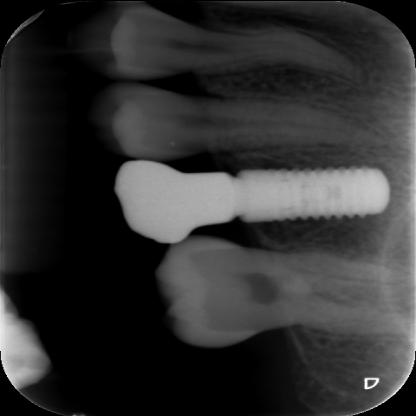ITI: (230, 158, 396, 226)
